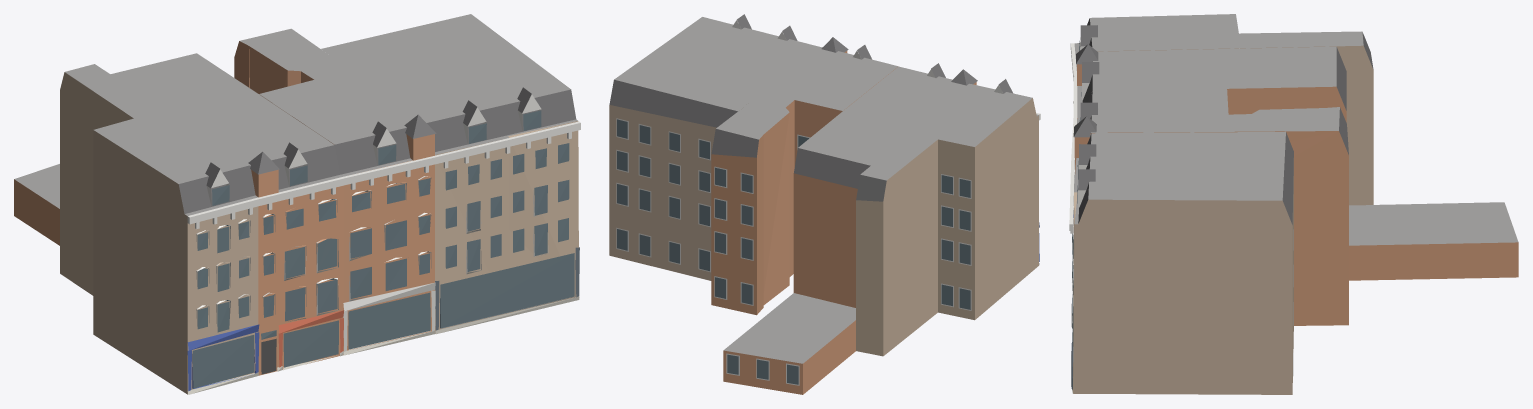
The model's file is chunk-face-bilder-166802-235892.lod2.glb.
3 views of the same model, side by side, from view 1: azimuth 30°, elevation 25°; view 2: azimuth 150°, elevation 25°; view 3: azimuth 270°, elevation 25° (orthographic). The views are drawn at different scales.
Visible parts, largest first — view 1: lod2; view 2: lod2; view 3: lod2.
Boxes of the visible parts, x1,y1,x2,y2 form: lod2: (14,14,580,394); lod2: (609,14,1040,394); lod2: (1069,14,1518,394).
Size of the model in its own units: 33.16 by 17.14 by 33.75.
